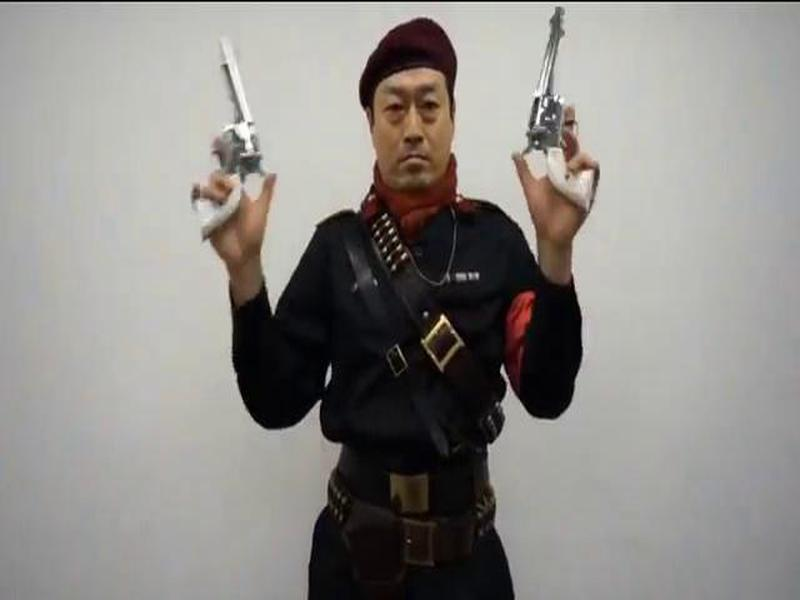Revolver: (519, 5, 611, 207), (192, 34, 277, 240)
